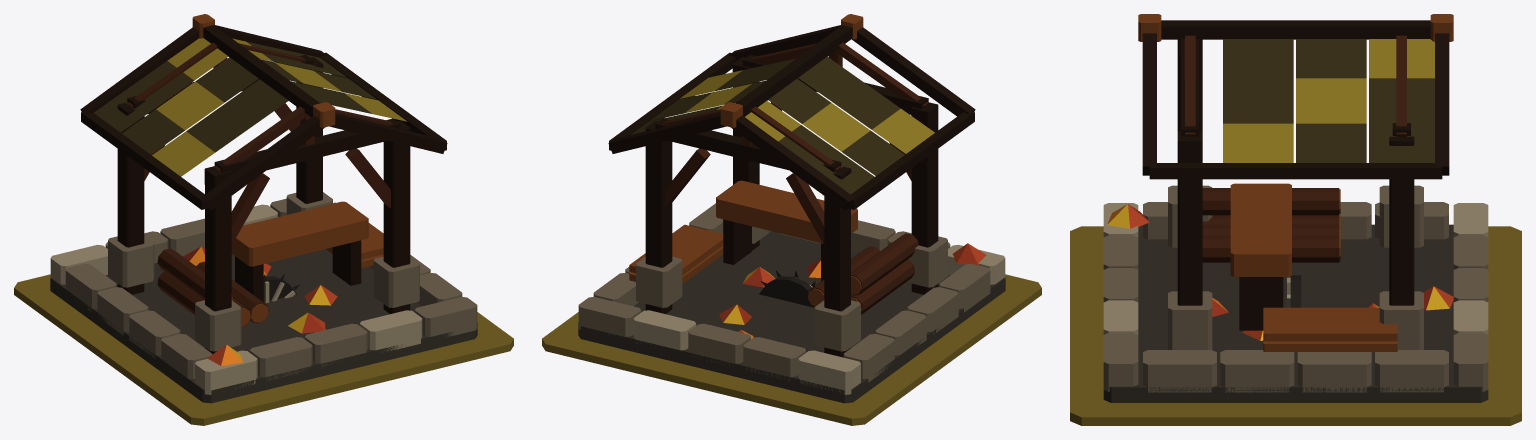
Rendered from sawmill_t1.glb.
3 renders of one model, left to right at view 1: azimuth 30°, elevation 25°; view 2: azimuth 150°, elevation 25°; view 3: azimuth 270°, elevation 25°, orthographic. The views are drawn at different scales.
Visible parts, largest first — view 1: MMR | sawmill | T01 Architecture.001, MMR | sawmill | Tier 01 Ground.001, MMR | sawmill | T01 Header Frame.001, MMR | sawmill | T01 Autumn Dressing.001, MMR | sawmill | T01 Saw Blade.001; view 2: MMR | sawmill | T01 Architecture.001, MMR | sawmill | Tier 01 Ground.001, MMR | sawmill | T01 Header Frame.001, MMR | sawmill | T01 Autumn Dressing.001, MMR | sawmill | T01 Saw Blade.001; view 3: MMR | sawmill | T01 Architecture.001, MMR | sawmill | Tier 01 Ground.001, MMR | sawmill | T01 Header Frame.001, MMR | sawmill | T01 Autumn Dressing.001, MMR | sawmill | T01 Saw Blade.001.
Part boxes in pixels (x1=…): MMR | sawmill | T01 Architecture.001: x1=50, y1=14, x2=477, y2=403; MMR | sawmill | Tier 01 Ground.001: x1=14, y1=274, x2=513, y2=425; MMR | sawmill | T01 Header Frame.001: x1=117, y1=42, x2=410, y2=189; MMR | sawmill | T01 Autumn Dressing.001: x1=184, y1=246, x2=337, y2=365; MMR | sawmill | T01 Saw Blade.001: x1=263, y1=274, x2=299, y2=303; MMR | sawmill | T01 Architecture.001: x1=578, y1=14, x2=1005, y2=403; MMR | sawmill | Tier 01 Ground.001: x1=542, y1=274, x2=1041, y2=425; MMR | sawmill | T01 Header Frame.001: x1=645, y1=42, x2=938, y2=179; MMR | sawmill | T01 Autumn Dressing.001: x1=719, y1=243, x2=986, y2=339; MMR | sawmill | T01 Saw Blade.001: x1=759, y1=270, x2=815, y2=307; MMR | sawmill | T01 Architecture.001: x1=1103, y1=14, x2=1488, y2=402; MMR | sawmill | Tier 01 Ground.001: x1=1070, y1=226, x2=1521, y2=425; MMR | sawmill | T01 Header Frame.001: x1=1177, y1=35, x2=1414, y2=160; MMR | sawmill | T01 Autumn Dressing.001: x1=1107, y1=204, x2=1453, y2=340; MMR | sawmill | T01 Saw Blade.001: x1=1287, y1=275, x2=1301, y2=307.
Bounding box in the file's own units: 2.35 × 2.03 × 2.35.
1 material, 1 textured.
